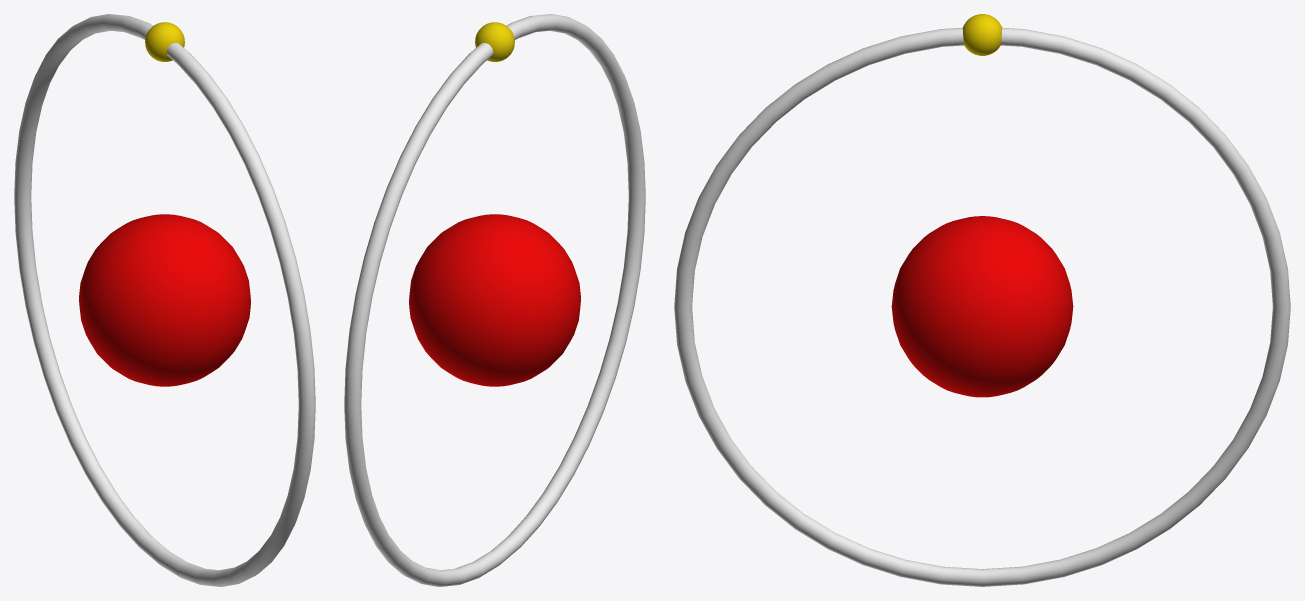
The model's file is Hydrogen.fbx.
The picture shows the model from 3 angles, left to right: view 1: azimuth 30°, elevation 25°; view 2: azimuth 150°, elevation 25°; view 3: azimuth 270°, elevation 25°; orthographic projection. The views are drawn at different scales.
Parts seen in each view (by area): view 1: Neucelus, Orbit, Electron; view 2: Neucelus, Orbit, Electron; view 3: Orbit, Neucelus, Electron.
Boxes of the visible parts, left/top/right/bottom form: Neucelus: left=79, top=214, right=250, bottom=386; Orbit: left=14, top=14, right=315, bottom=586; Electron: left=145, top=22, right=184, bottom=61; Neucelus: left=409, top=214, right=580, bottom=386; Orbit: left=344, top=14, right=645, bottom=586; Electron: left=475, top=22, right=514, bottom=61; Orbit: left=674, top=27, right=1290, bottom=586; Neucelus: left=891, top=216, right=1073, bottom=397; Electron: left=962, top=14, right=1002, bottom=55.
Size of the model in its own units: 200 by 693 by 679.
